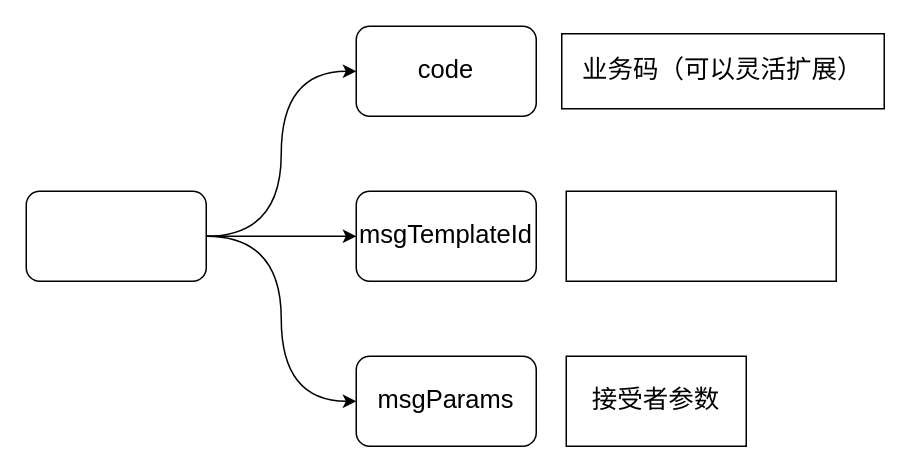
This 911x473 diagram has some shape labels left out. The centre of each missing label's shape, as x and y in pixels:
参数: [115,235]
消息模板id，可以通过ID获取整个模板信息: [700,235]
